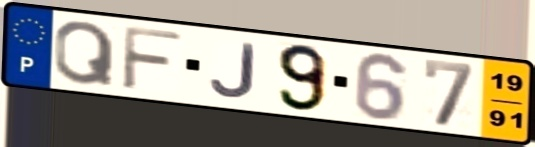6: (351, 51, 410, 123)
7: (421, 57, 478, 129)
9: (273, 42, 333, 114)
F: (118, 23, 186, 93)
J: (207, 40, 258, 100)
Q: (52, 20, 118, 89)
